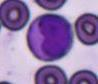M: (27, 14, 74, 62)
